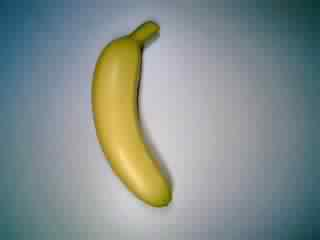banana: (88, 18, 182, 210)
